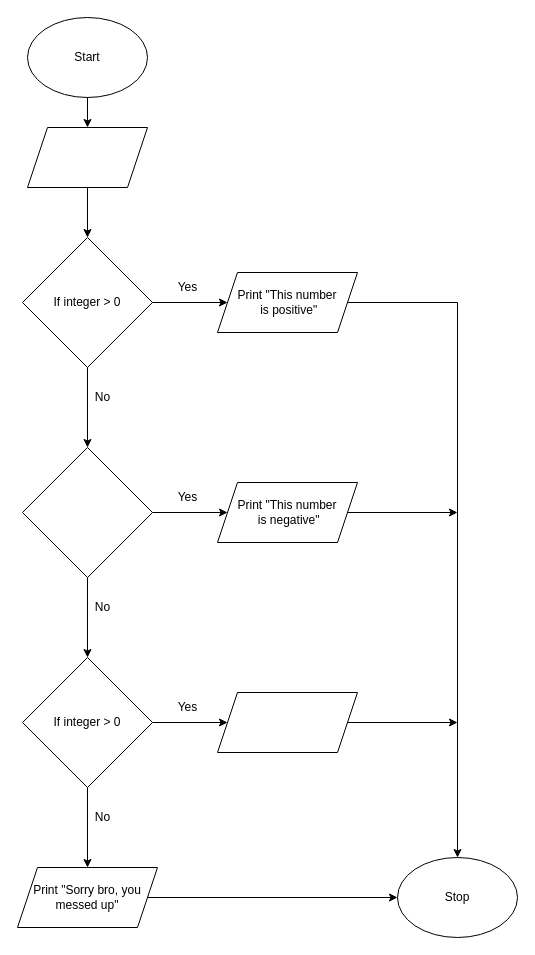
Image size: 535x955. Some labels were removed from this diagram. Here are the shapes that lost their labels. From the top down, the centre of each, then its label:
(x=87, y=157): Get integer
(x=87, y=512): If integer < 0
(x=287, y=722): Print "0 is just zero"
